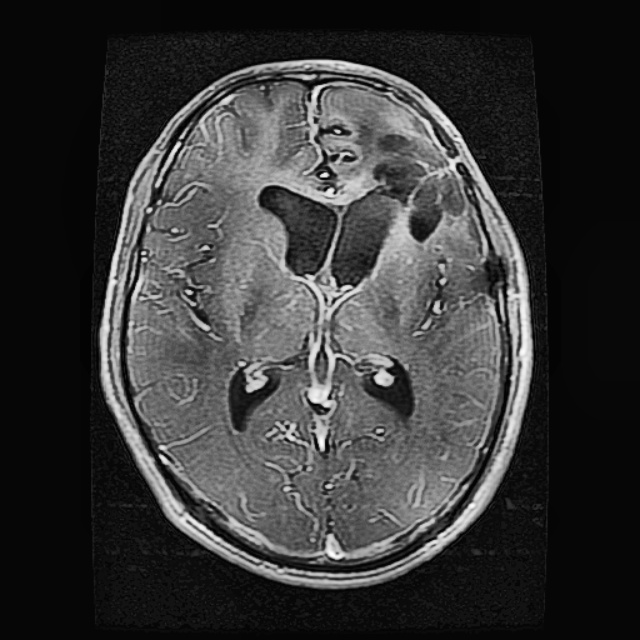Glioma: (370, 118, 465, 242)
